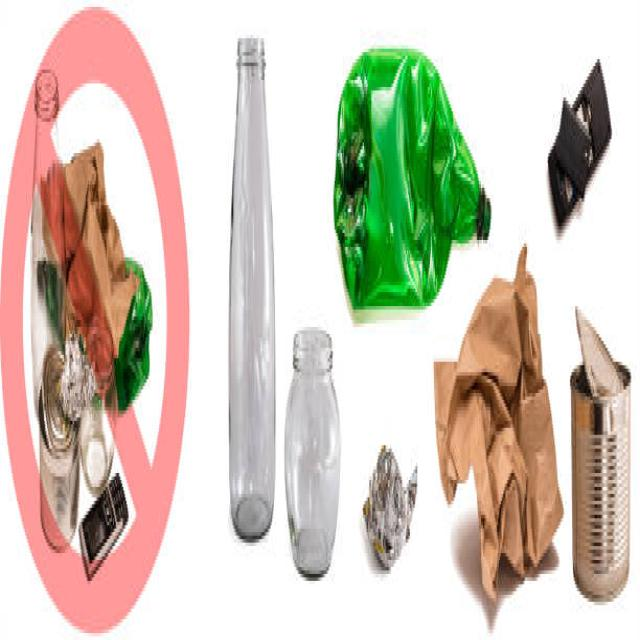glass: (226, 7, 335, 588)
paper: (435, 289, 549, 591)
plastic: (342, 35, 503, 268), (362, 442, 416, 574)
